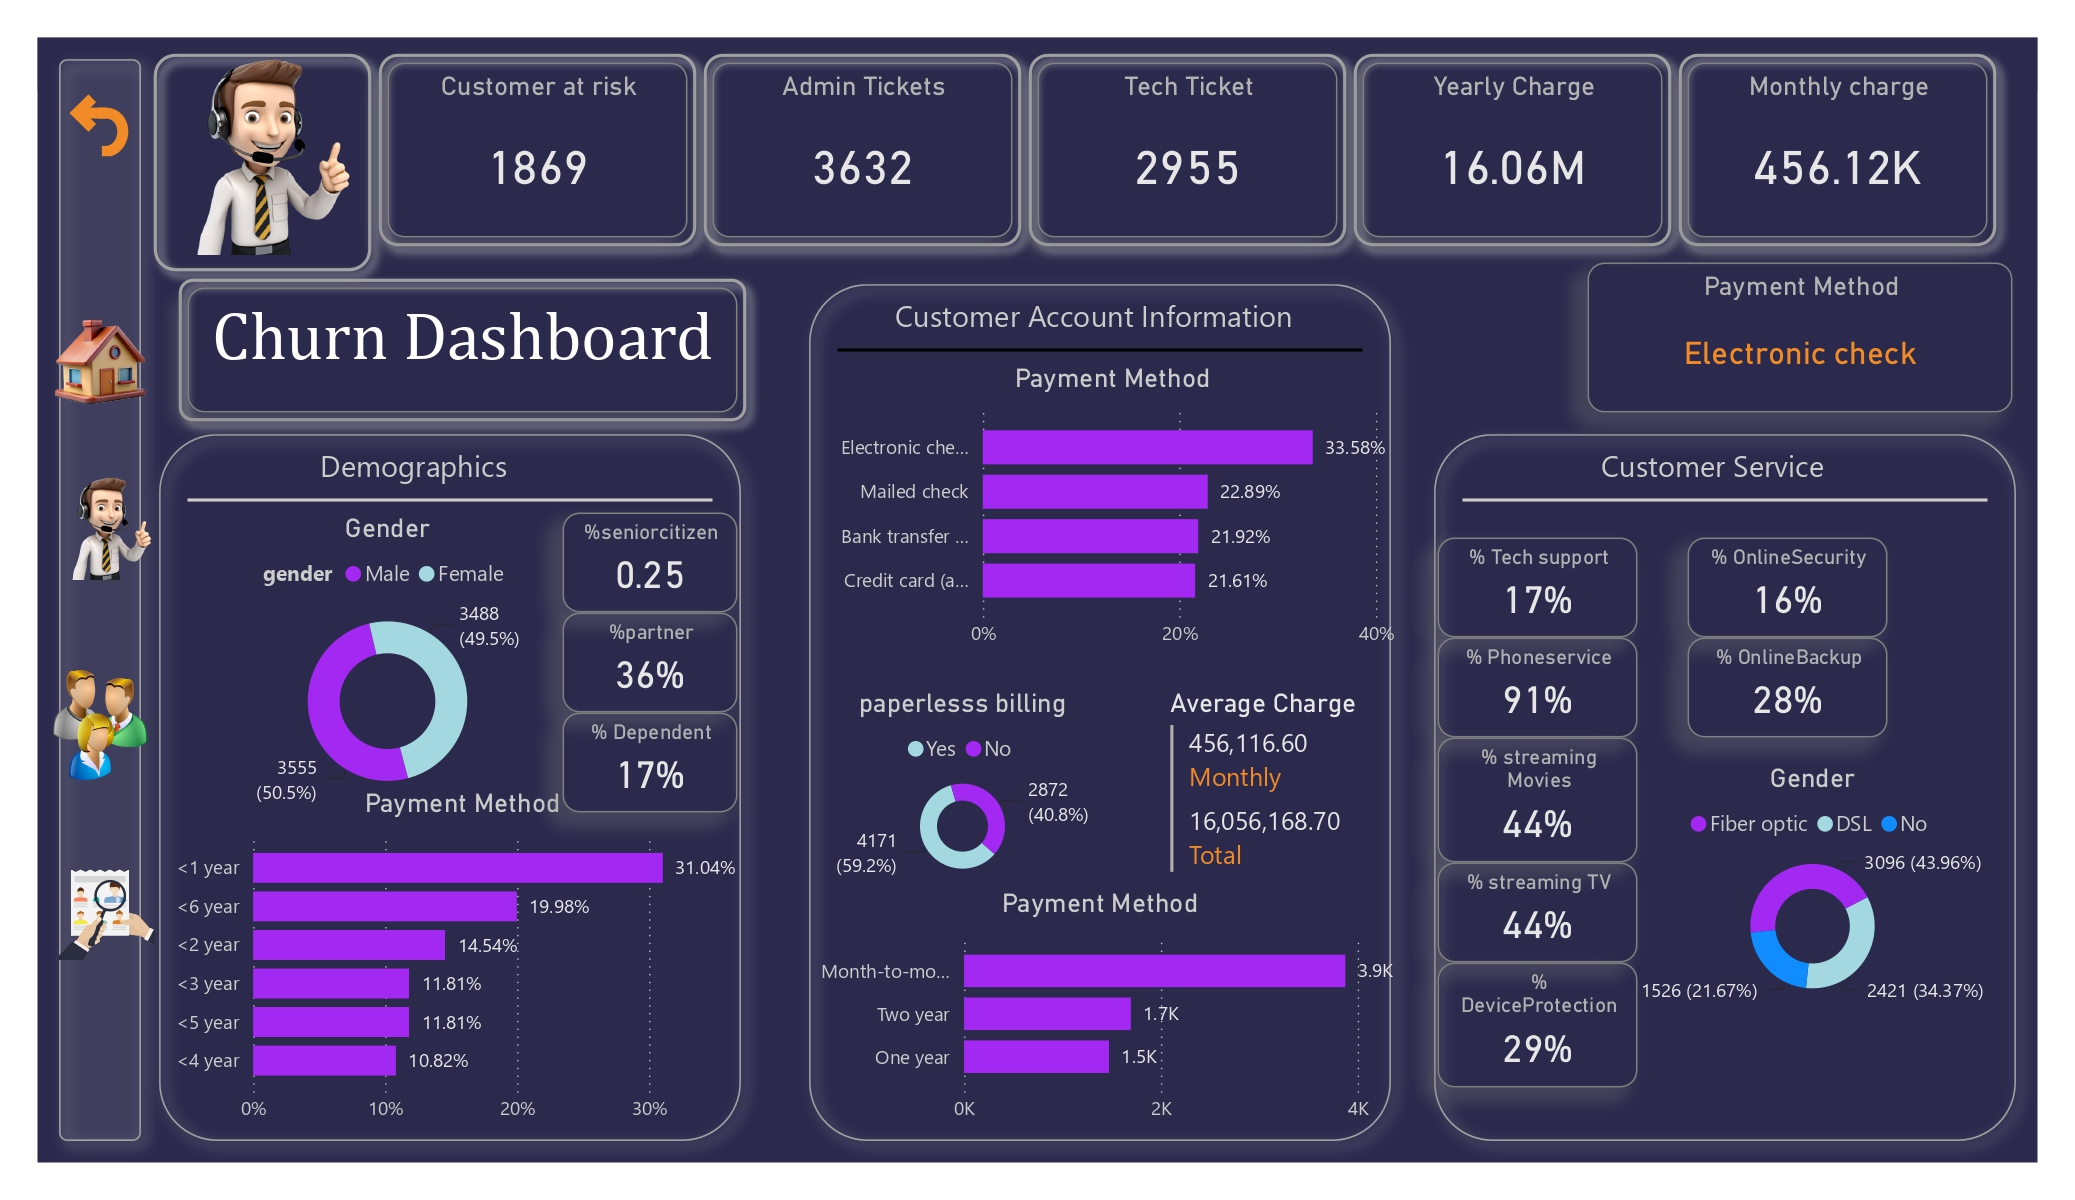

This screenshot's page, from the dashboard's own definition file:
{"tool":"powerbi","page":{"name":"Churned Dashboard","canvas":[1280,720],"ordinal":1},"visuals":[{"type":"shape","box":[64,0,160,160],"z":0},{"type":"shape","box":[80,144,384,112],"z":1000},{"type":"shape","box":[480,144,400,576],"z":2000},{"type":"shape","box":[1040,0,224,144],"z":3000},{"type":"shape","box":[832,0,224,144],"z":4000},{"type":"shape","box":[624,0,224,144],"z":5000},{"type":"shape","box":[416,0,224,144],"z":6000},{"type":"shape","box":[208,0,224,144],"z":7000},{"type":"card","title":"Admin Tickets","fields":{"Values":["Sum(01 Churn-Dataset.numAdminTickets)"]},"box":[432,16,192,112],"z":8000},{"type":"card","title":"Monthly charge","fields":{"Values":["Sum(01 Churn-Dataset.MonthlyCharges)"]},"box":[1056,16,192,112],"z":9000},{"type":"card","title":"Customer at risk","fields":{"Values":["Measure.no left"]},"box":[224,16,192,112],"z":10000},{"type":"card","title":"Tech Ticket","fields":{"Values":["Sum(01 Churn-Dataset.numTechTickets)"]},"box":[640,16,192,112],"z":11000},{"type":"card","title":"Yearly Charge","fields":{"Values":["Sum(01 Churn-Dataset.TotalCharges)"]},"box":[848,16,192,112],"z":12000},{"type":"shape","box":[64,240,400,480],"z":13000},{"type":"shape","box":[96,288,336,16],"z":14000},{"type":"barChart","title":"Payment Method","fields":{"Category":["01 Churn-Dataset.PaymentMethod"],"Y":["CountNonNull(01 Churn-Dataset.customerID)"]},"box":[496,208,384,192],"z":15000},{"type":"textbox","box":[176,256,144,48],"z":16000},{"type":"donutChart","title":"Gender","fields":{"Category":["01 Churn-Dataset.gender"],"Y":["CountNonNull(01 Churn-Dataset.gender)"]},"box":[96,304,256,192],"z":17000},{"type":"shape","box":[512,192,336,16],"z":18000},{"type":"textbox","box":[544,160,304,48],"z":19000},{"type":"shape","box":[880,240,400,480],"z":20000},{"type":"donutChart","title":"Gender","fields":{"Y":["CountNonNull(01 Churn-Dataset.InternetService)"],"Category":["01 Churn-Dataset.InternetService"]},"box":[992,464,288,160],"z":21000},{"type":"textbox","box":[960,256,224,48],"z":22000},{"type":"shape","box":[0,0,80,720],"z":23000},{"type":"actionButton","box":[16,32,48,48],"z":24000},{"type":"donutChart","title":"paperlesss billing","fields":{"Category":["01 Churn-Dataset.PaperlessBilling"],"Y":["CountNonNull(01 Churn-Dataset.PaperlessBilling)"]},"box":[496,416,192,128],"z":25000},{"type":"barChart","title":"Payment Method","fields":{"Category":["01 Churn-Dataset.Tenure in year"],"Y":["CountNonNull(01 Churn-Dataset.Tenure in year)"]},"box":[80,480,384,224],"z":26000},{"type":"card","title":"%seniorcitizen","fields":{"Values":["Measure.Seniorcitzen rate"]},"box":[336,304,112,64],"z":27000},{"type":"card","title":"%partner","fields":{"Values":["Measure.% partner"]},"box":[336,368,112,64],"z":28000},{"type":"card","title":"% Dependent","fields":{"Values":["Measure.% Dependant"]},"box":[336,432,112,64],"z":29000},{"type":"multiRowCard","title":"Average Charge","fields":{"Values":["Sum(01 Churn-Dataset.MonthlyCharges)","Sum(01 Churn-Dataset.TotalCharges)"]},"box":[720,416,160,128],"z":30000},{"type":"barChart","title":"Payment Method","fields":{"Category":["01 Churn-Dataset.Contract"],"Y":["CountNonNull(01 Churn-Dataset.Contract)"]},"box":[480,544,400,160],"z":31000},{"type":"card","title":"Payment Method","fields":{"Values":["Min(01 Churn-Dataset.PaymentMethod)"]},"box":[992,144,272,96],"z":32000},{"type":"card","title":"% Tech support","fields":{"Values":["Measure.% Tech support"]},"box":[896,320,128,64],"z":33000},{"type":"card","title":"% Phoneservice","fields":{"Values":["Measure.% Phoneservice"]},"box":[896,384,128,64],"z":34000},{"type":"card","title":"% streaming Movies","fields":{"Values":["Measure.% streaming Movies"]},"box":[896,448,128,80],"z":35000},{"type":"card","title":"% streaming TV","fields":{"Values":["Measure.% streaming TV"]},"box":[896,528,128,64],"z":36000},{"type":"card","title":"% OnlineSecurity","fields":{"Values":["Measure.% OnlineSecurity"]},"box":[1056,320,128,64],"z":37000},{"type":"card","title":"% OnlineBackup","fields":{"Values":["Measure.% OnlineBackup"]},"box":[1056,384,128,64],"z":38000},{"type":"card","title":"% DeviceProtection","fields":{"Values":["Measure.% DeviceProtection"]},"box":[896,592,128,80],"z":39000},{"type":"textbox","box":[96,160,352,80],"z":40000},{"type":"image","box":[80,0,144,144],"z":41000},{"type":"shape","box":[912,288,336,16],"z":42000},{"type":"image","box":[0,496,80,128],"z":43000},{"type":"image","box":[0,400,80,80],"z":44000},{"type":"image","box":[0,272,96,80],"z":45000},{"type":"image","box":[0,144,80,128],"z":46000}]}

Visuals, with their boxes on the page's 1280x720 design canvas (x1, y1, x2, y2). These are canvas units, not pixel positions in the 2075x1200 screenshot, which may show the page scaled, cropped or inside an application window:
shape: [left=64, top=0, right=224, bottom=160]
shape: [left=80, top=144, right=464, bottom=256]
shape: [left=480, top=144, right=880, bottom=720]
shape: [left=1040, top=0, right=1264, bottom=144]
shape: [left=832, top=0, right=1056, bottom=144]
shape: [left=624, top=0, right=848, bottom=144]
shape: [left=416, top=0, right=640, bottom=144]
shape: [left=208, top=0, right=432, bottom=144]
"Admin Tickets" card: [left=432, top=16, right=624, bottom=128]
"Monthly charge" card: [left=1056, top=16, right=1248, bottom=128]
"Customer at risk" card: [left=224, top=16, right=416, bottom=128]
"Tech Ticket" card: [left=640, top=16, right=832, bottom=128]
"Yearly Charge" card: [left=848, top=16, right=1040, bottom=128]
shape: [left=64, top=240, right=464, bottom=720]
shape: [left=96, top=288, right=432, bottom=304]
"Payment Method" barChart: [left=496, top=208, right=880, bottom=400]
textbox: [left=176, top=256, right=320, bottom=304]
"Gender" donutChart: [left=96, top=304, right=352, bottom=496]
shape: [left=512, top=192, right=848, bottom=208]
textbox: [left=544, top=160, right=848, bottom=208]
shape: [left=880, top=240, right=1280, bottom=720]
"Gender" donutChart: [left=992, top=464, right=1280, bottom=624]
textbox: [left=960, top=256, right=1184, bottom=304]
shape: [left=0, top=0, right=80, bottom=720]
actionButton: [left=16, top=32, right=64, bottom=80]
"paperlesss billing" donutChart: [left=496, top=416, right=688, bottom=544]
"Payment Method" barChart: [left=80, top=480, right=464, bottom=704]
"%seniorcitizen" card: [left=336, top=304, right=448, bottom=368]
"%partner" card: [left=336, top=368, right=448, bottom=432]
"% Dependent" card: [left=336, top=432, right=448, bottom=496]
"Average Charge" multiRowCard: [left=720, top=416, right=880, bottom=544]
"Payment Method" barChart: [left=480, top=544, right=880, bottom=704]
"Payment Method" card: [left=992, top=144, right=1264, bottom=240]
"% Tech support" card: [left=896, top=320, right=1024, bottom=384]
"% Phoneservice" card: [left=896, top=384, right=1024, bottom=448]
"% streaming Movies" card: [left=896, top=448, right=1024, bottom=528]
"% streaming TV" card: [left=896, top=528, right=1024, bottom=592]
"% OnlineSecurity" card: [left=1056, top=320, right=1184, bottom=384]
"% OnlineBackup" card: [left=1056, top=384, right=1184, bottom=448]
"% DeviceProtection" card: [left=896, top=592, right=1024, bottom=672]
textbox: [left=96, top=160, right=448, bottom=240]
image: [left=80, top=0, right=224, bottom=144]
shape: [left=912, top=288, right=1248, bottom=304]
image: [left=0, top=496, right=80, bottom=624]
image: [left=0, top=400, right=80, bottom=480]
image: [left=0, top=272, right=96, bottom=352]
image: [left=0, top=144, right=80, bottom=272]
